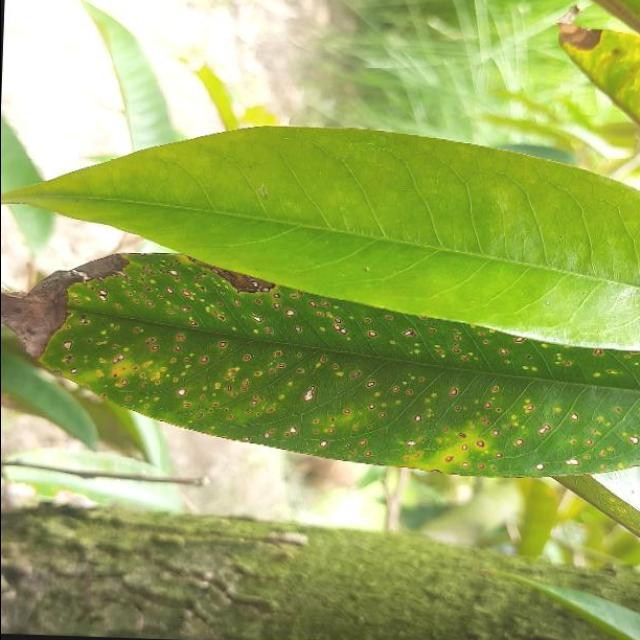Leaf Spot: (0, 239, 640, 492)
No Disease: (0, 109, 640, 348)
